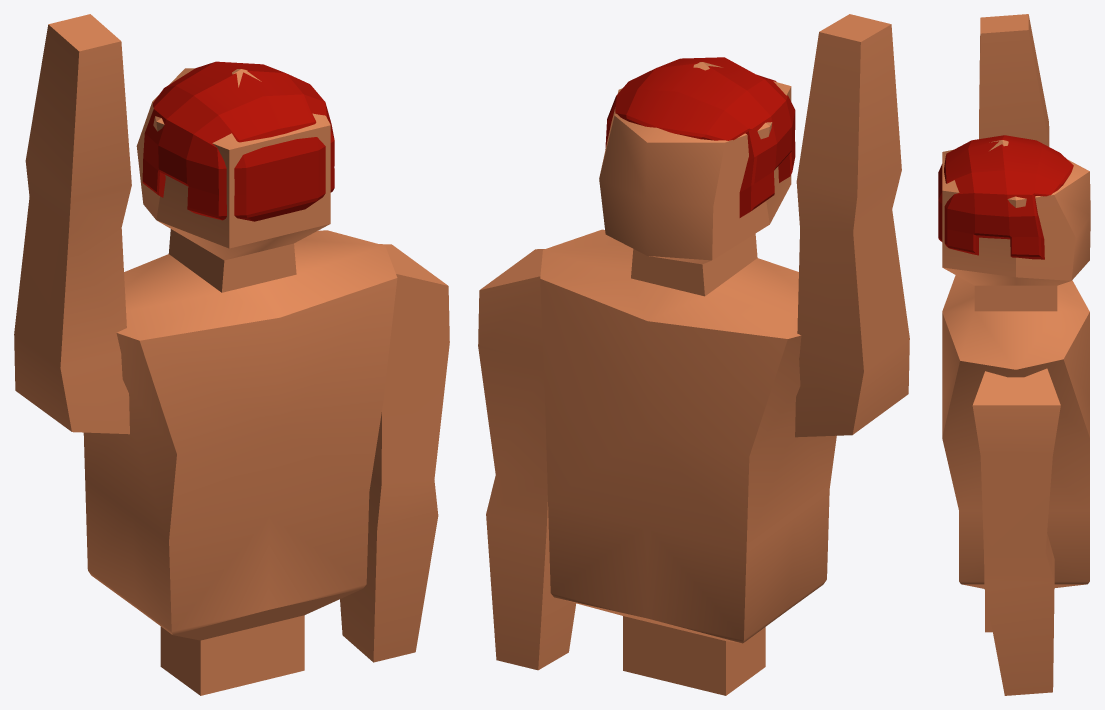
Rendered from kid_bot_001.FBX.
The picture shows the model from 3 angles, left to right: view 1: azimuth 30°, elevation 25°; view 2: azimuth 150°, elevation 25°; view 3: azimuth 270°, elevation 25°; orthographic projection. The views are drawn at different scales.
Parts seen in each view (by area): view 1: child_bot, right_arm_002, right_arm_001, child_bot_hair002; view 2: child_bot, right_arm_002, right_arm_001, child_bot_hair002; view 3: child_bot, right_arm_001, child_bot_hair002, right_arm_002.
Boxes of the visible parts, x1,y1,x2,y2 form: child_bot: (83,68,397,695); right_arm_002: (14,14,131,434); right_arm_001: (340,244,449,662); child_bot_hair002: (142,61,334,221); child_bot: (540,62,836,695); right_arm_002: (795,14,909,437); right_arm_001: (478,249,576,670); child_bot_hair002: (605,57,795,217); child_bot: (942,140,1090,632); right_arm_001: (972,368,1060,695); child_bot_hair002: (938,135,1073,259); right_arm_002: (979,14,1049,146).
Size of the model in its own units: 0.5933 by 1.02 by 0.2583.
